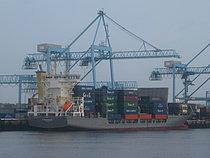Ship: (27, 62, 194, 135)
